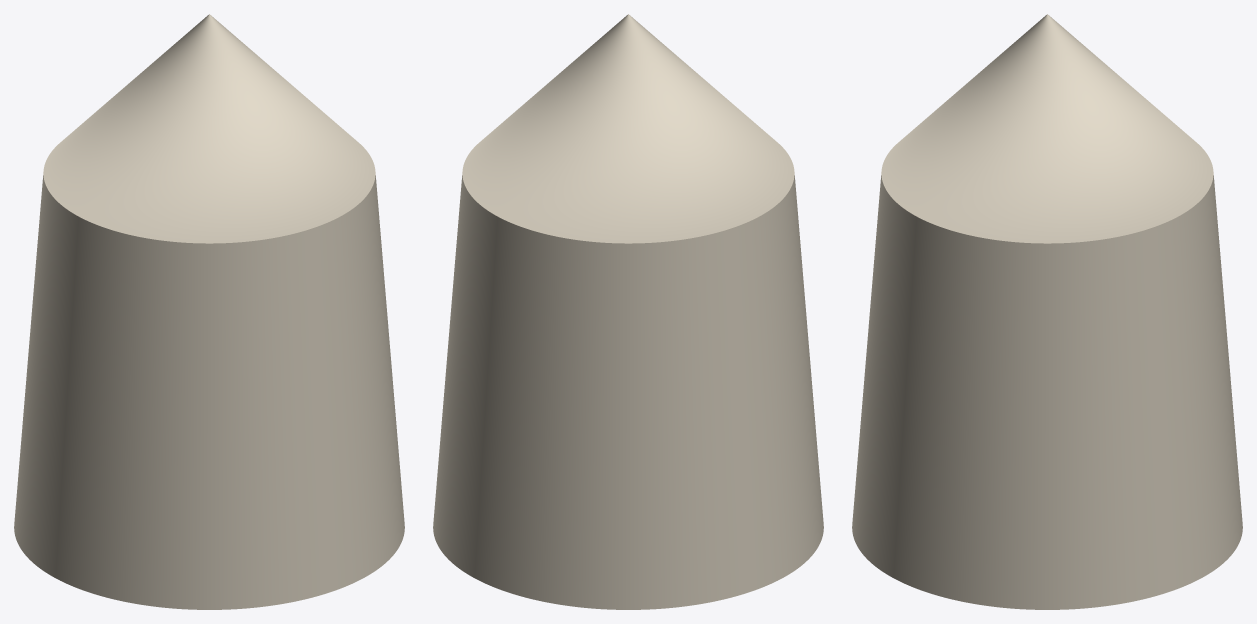
File: perf-8000.glb
3 views of the same model, side by side, from view 1: azimuth 30°, elevation 25°; view 2: azimuth 150°, elevation 25°; view 3: azimuth 270°, elevation 25° (orthographic).
Visible parts, largest first — view 1: PerfTower; view 2: PerfTower; view 3: PerfTower.
Boxes of the visible parts, box(x1,y1,x2,y2) form: PerfTower: box(14, 14, 404, 609); PerfTower: box(433, 14, 823, 609); PerfTower: box(852, 14, 1242, 609).
Size of the model in its own units: 1 by 1.45 by 1.
